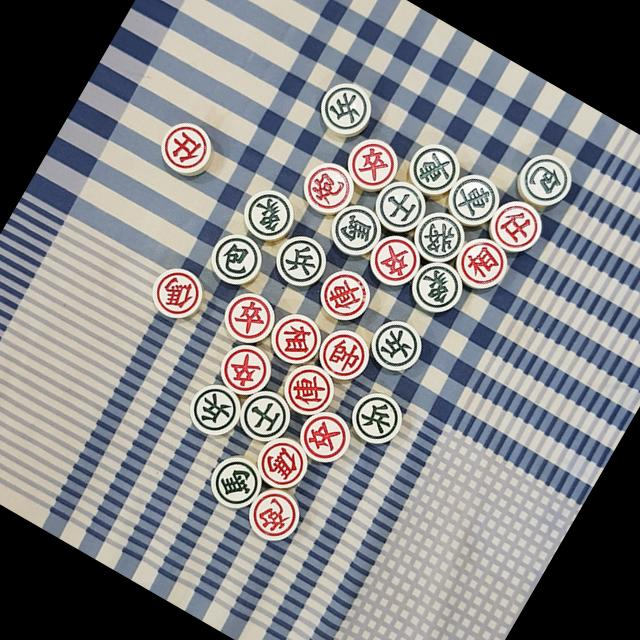black-advisor: (372, 177, 431, 234), (238, 387, 294, 443)
black-cannon: (511, 147, 580, 213), (205, 227, 269, 290)
black-chariot: (402, 138, 468, 204), (442, 168, 504, 230)
black-elephant: (237, 183, 302, 248), (406, 254, 472, 316)
black-general: (409, 208, 467, 267)
black-horse: (205, 449, 268, 511), (326, 198, 388, 261)
black-soldier: (362, 313, 428, 379), (343, 384, 408, 450), (312, 74, 378, 139), (184, 378, 246, 438), (271, 232, 331, 291)
red-advisor: (155, 116, 219, 182), (488, 197, 546, 257)
red-cannon: (244, 482, 308, 548), (296, 156, 359, 220)
red-chariot: (315, 264, 376, 325), (280, 362, 336, 418)
red-elephant: (452, 235, 513, 295), (267, 309, 325, 368)
red-general: (314, 326, 374, 386)
red-horse: (144, 260, 210, 326), (254, 437, 310, 492)
red-soldier: (343, 133, 402, 195), (214, 340, 274, 400), (220, 290, 280, 348), (294, 408, 352, 467), (368, 232, 424, 290)
